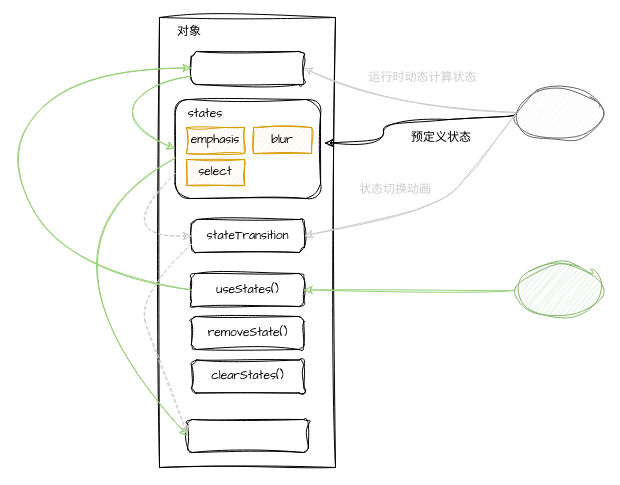
The diagram is 620 pixels wide and 485 high, and some of its shapes have lost their labels. Each missing label, with the centre of its shape:
"_applyStateObj()" belongs at (247,435).
"stateProxy()" belongs at (247,67).
"交互行为" belongs at (558,289).
"对象实例化" belongs at (558,114).
